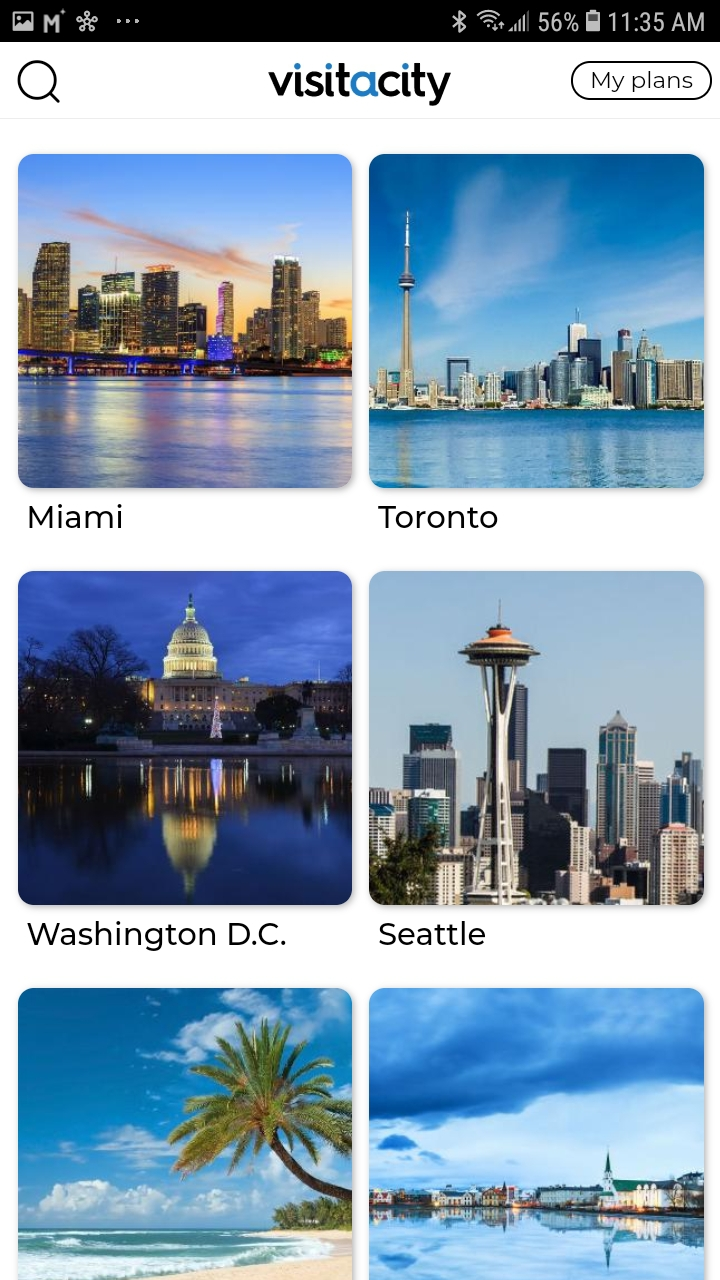Icon: (18, 60, 62, 104)
Image: (369, 571, 704, 906), (18, 571, 353, 906), (369, 154, 704, 489), (18, 154, 353, 489), (369, 988, 705, 1280), (18, 988, 353, 1280), (269, 63, 452, 107)
Text: (28, 921, 287, 952), (378, 506, 498, 529), (379, 921, 486, 946), (29, 504, 123, 529)
TextButton: (571, 62, 713, 102)
UpperTaskBar: (1, 1, 720, 43)
